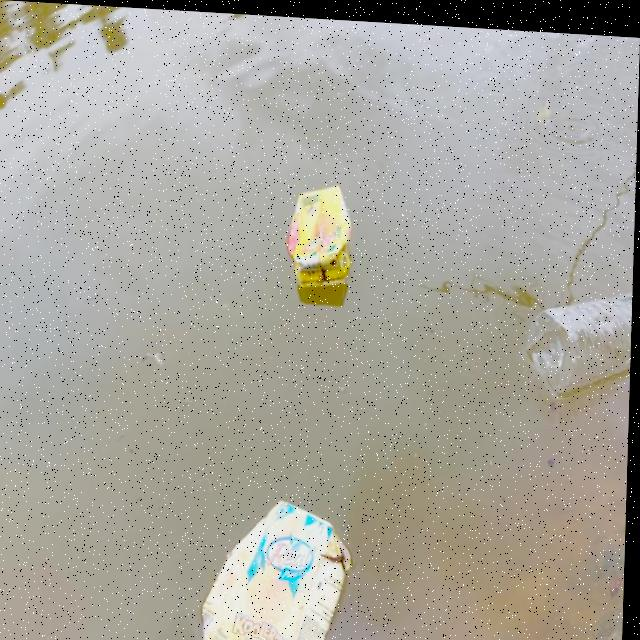paper: (152, 477, 383, 640), (278, 179, 363, 291)
waterbottle: (507, 266, 634, 403)
